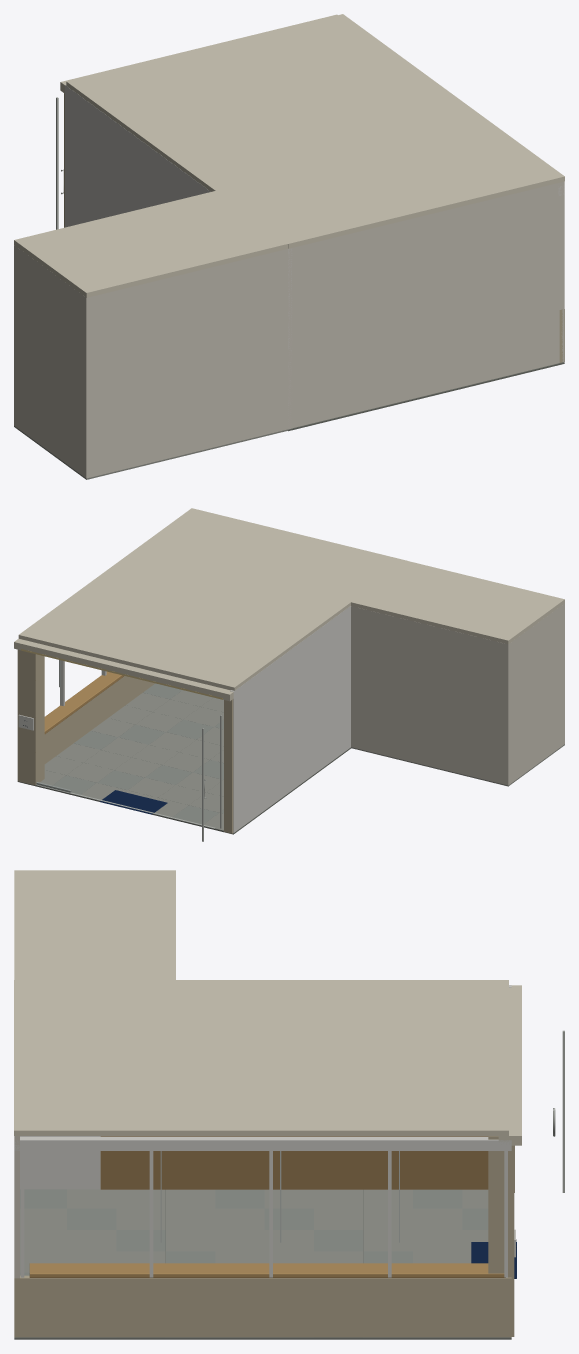
The model's file is room.glb.
The picture shows the model from 3 angles, top to bottom: view 1: azimuth 30°, elevation 25°; view 2: azimuth 150°, elevation 25°; view 3: azimuth 270°, elevation 25°; orthographic projection. The views are drawn at different scales.
Parts seen in each view (by area): view 1: 실내 조명 베이크용 room; view 2: 실내 조명 베이크용 room; view 3: 실내 조명 베이크용 room.
Boxes of the visible parts, x1=… form: 실내 조명 베이크용 room: x1=14, y1=14, x2=564, y2=479; 실내 조명 베이크용 room: x1=14, y1=508, x2=564, y2=841; 실내 조명 베이크용 room: x1=14, y1=870, x2=564, y2=1339.
Bounding box in the file's own units: 7.68 × 2.87 × 6.87.
